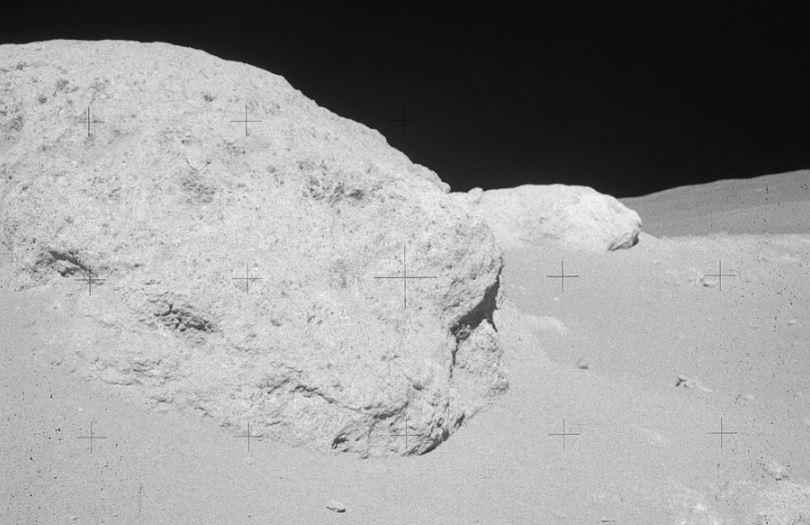rock: (452, 184, 642, 252)
